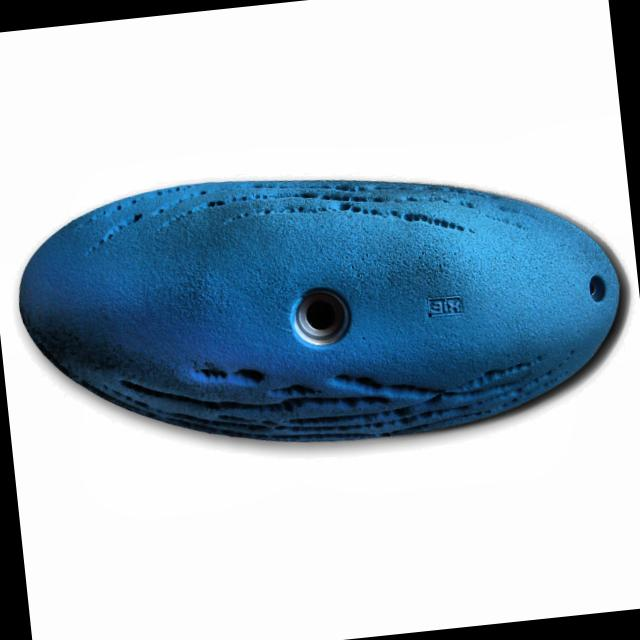Hold: (0, 153, 639, 463)
